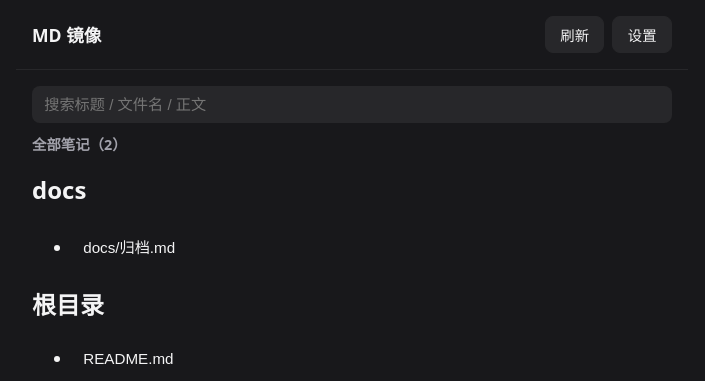
Test: 首页全局搜索（集成） › 输入标题片段 → 仅显示命中项，带「标题 H2」标签
Type "排障" into the search field with class "search-input". click: (352, 105)
box: [32,86,672,123]
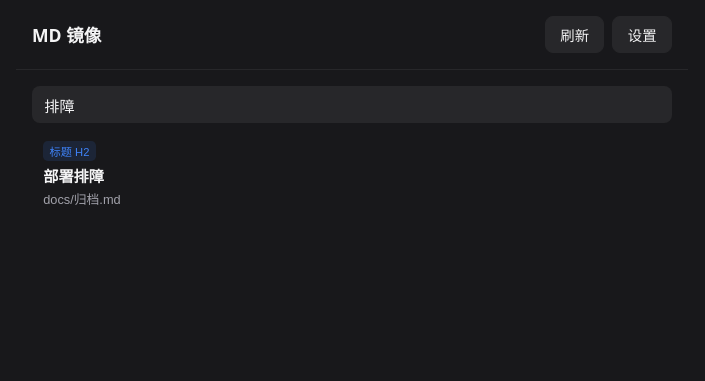
Result: the text "部署排障" is shown at [43,164,104,186]
Result: the text "标题 H2" is shown at [43,141,96,161]
Result: the text "README.md" is gone
